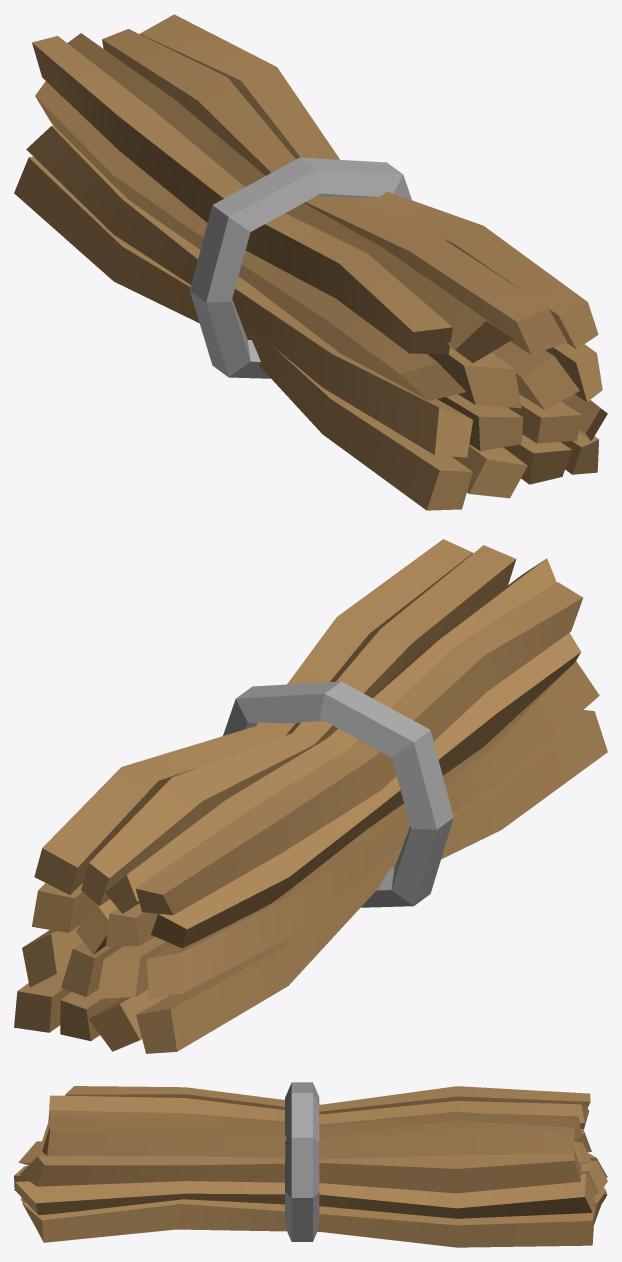
File: Mimbre.fbx
The picture shows the model from 3 angles, top to bottom: view 1: azimuth 30°, elevation 25°; view 2: azimuth 150°, elevation 25°; view 3: azimuth 270°, elevation 25°; orthographic projection. The views are drawn at different scales.
Parts seen in each view (by area): view 1: Mimbre, pTorus1; view 2: Mimbre, pTorus1; view 3: Mimbre, pTorus1.
Part boxes in pixels (x1=…): Mimbre: x1=14, y1=14, x2=607, y2=510; pTorus1: x1=190, y1=157, x2=411, y2=378; Mimbre: x1=14, y1=539, x2=607, y2=1053; pTorus1: x1=223, y1=681, x2=453, y2=907; Mimbre: x1=14, y1=1086, x2=607, y2=1247; pTorus1: x1=285, y1=1082, x2=319, y2=1241.
Bounding box in the file's own units: 9.24 × 8.35 × 32.83.
